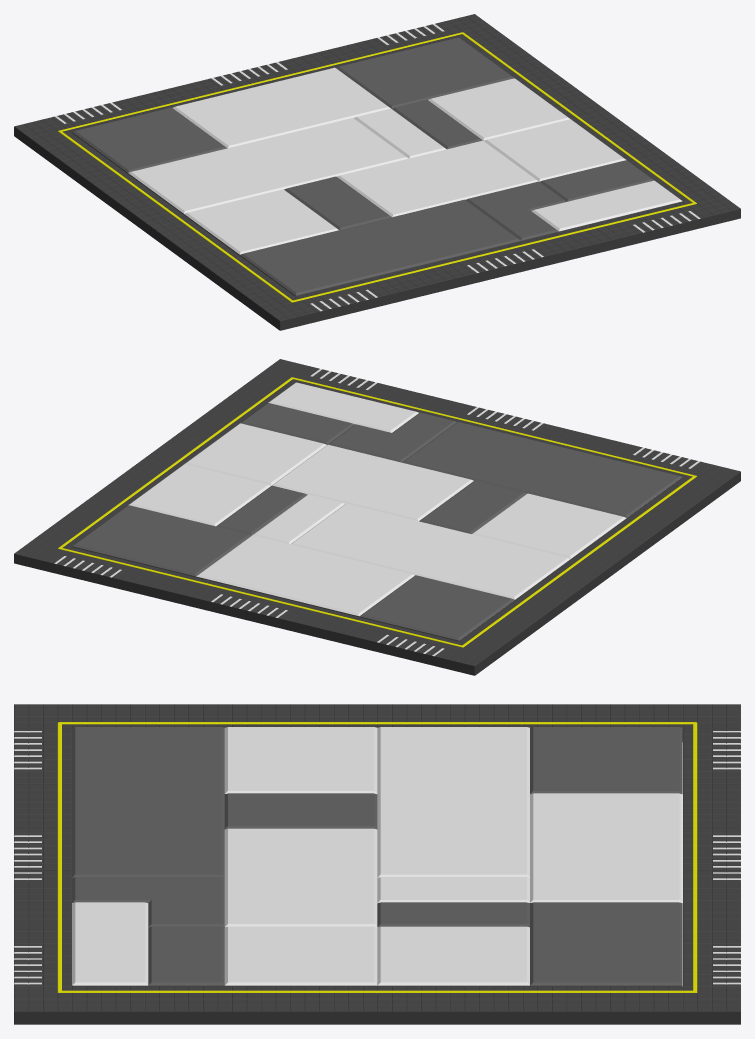
File: MapFloor_50.fbx
3 renders of one model, top to bottom at view 1: azimuth 30°, elevation 25°; view 2: azimuth 150°, elevation 25°; view 3: azimuth 270°, elevation 25°, orthographic. The views are drawn at different scales.
Visible parts, largest first — view 1: Field, Road, Road_line; view 2: Field, Road, Road_line; view 3: Field, Road, Road_line.
Part boxes in pixels (x1,y1,x2,y2): Field: (72, 37, 682, 296); Road: (14, 14, 740, 330); Road_line: (58, 32, 696, 302); Field: (72, 382, 682, 641); Road: (14, 359, 740, 675); Road_line: (58, 377, 696, 647); Field: (72, 727, 682, 986); Road: (14, 704, 740, 1024); Road_line: (57, 722, 697, 993).
Size of the model in its own units: 5000 by 125 by 5000.
